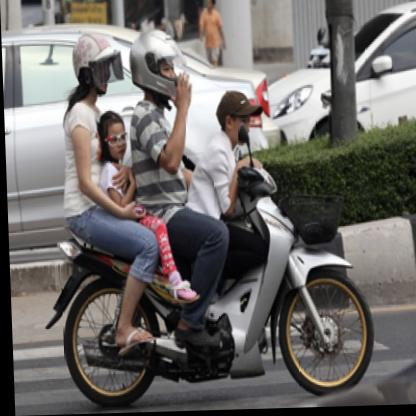With Helmet: (126, 24, 186, 111), (68, 24, 123, 100)
